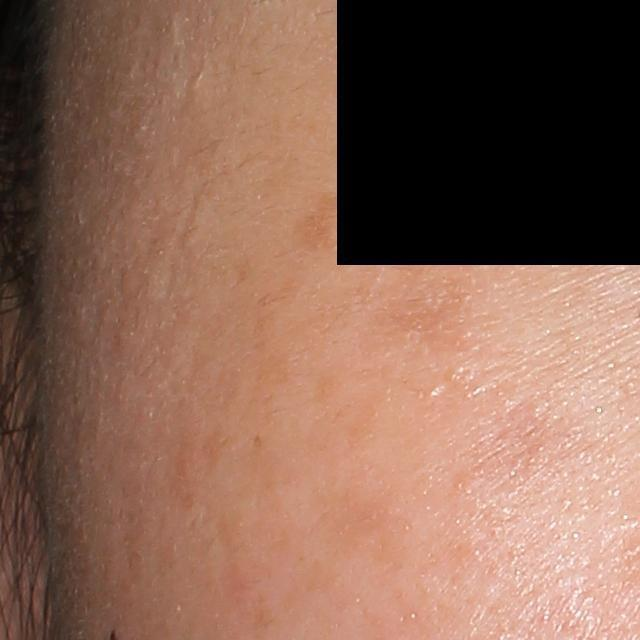melasma: (298, 195, 353, 260)
